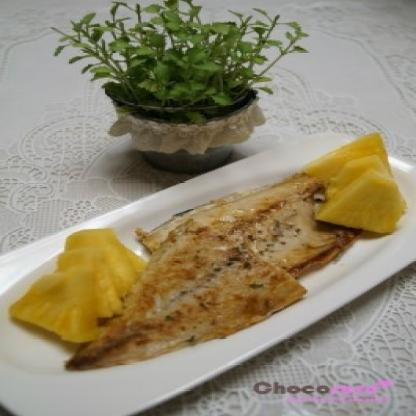Peixe: (72, 178, 350, 380)
